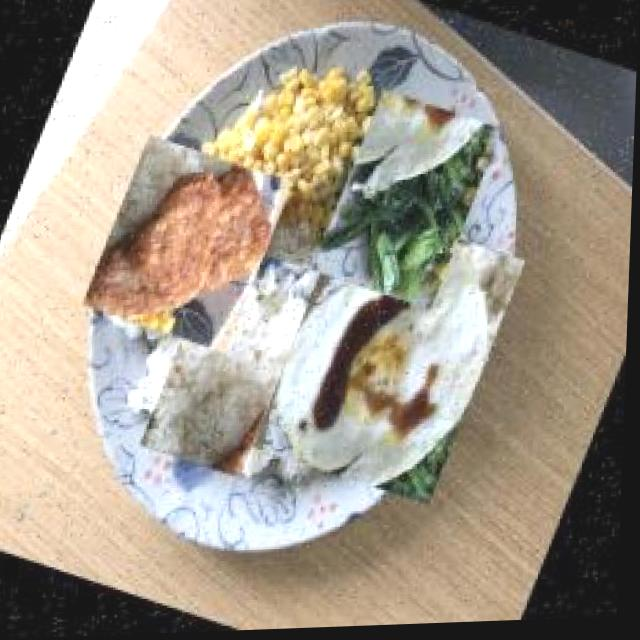fried_eggs: (255, 199, 532, 515)
rice: (141, 240, 326, 485)
triangle_hash_brown: (81, 131, 296, 360)
water_spinach: (313, 88, 505, 319)
